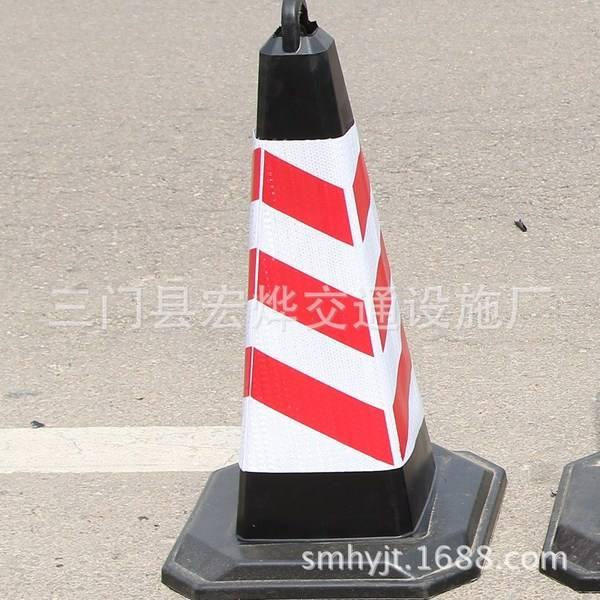sign: (189, 5, 480, 593)
